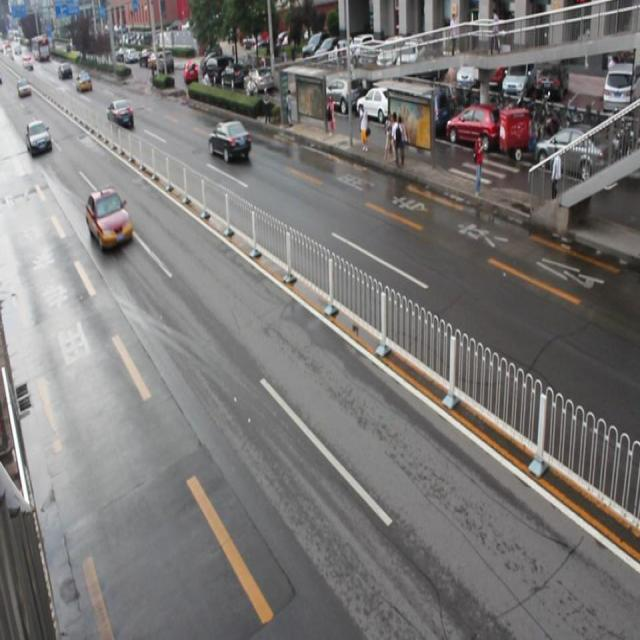car: (86, 186, 134, 251), (209, 118, 250, 162), (107, 98, 133, 130)
